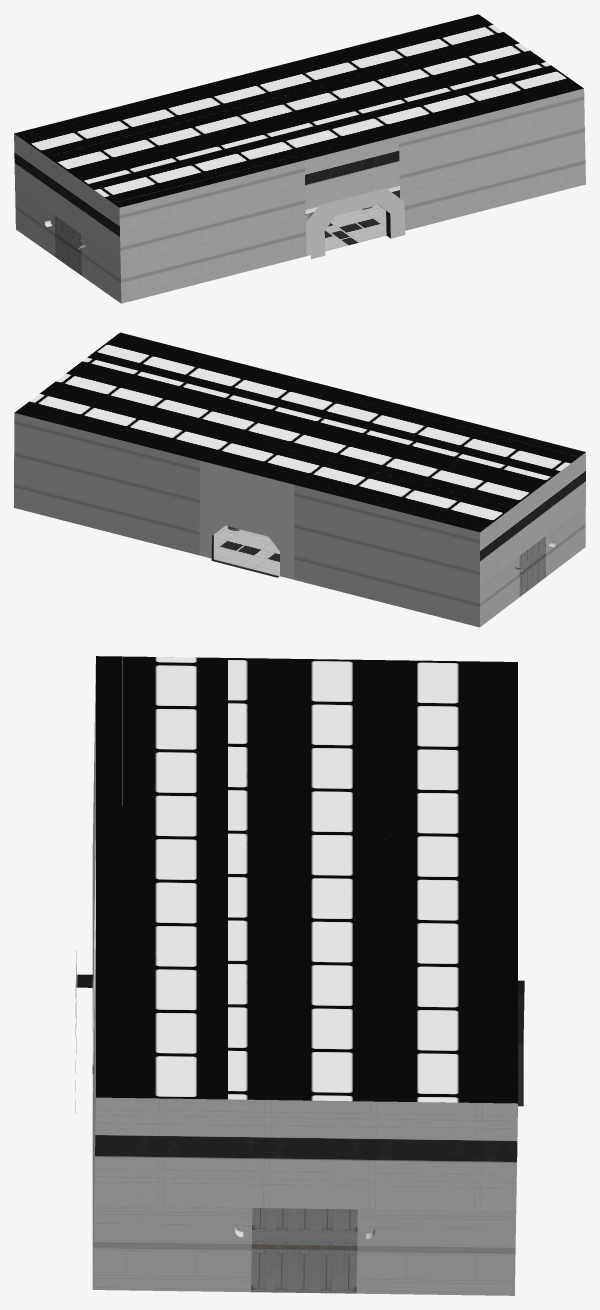
File: barracks.glb
3 views of the same model, one above another, from view 1: azimuth 30°, elevation 25°; view 2: azimuth 150°, elevation 25°; view 3: azimuth 270°, elevation 25° (orthographic). The views are drawn at different scales.
Visible parts, largest first — view 1: Object_16, Object_18, Object_19, Object_4, Object_12, Object_10; view 2: Object_16, Object_18, Object_4, Object_19, Object_12, Object_10; view 3: Object_16, Object_19, Object_18, Object_10, Object_17.
Part boxes in pixels (x1,y1,x2,y2): Object_16: [14, 14, 583, 207]; Object_18: [15, 88, 585, 303]; Object_19: [14, 93, 584, 261]; Object_4: [305, 186, 405, 259]; Object_12: [306, 205, 386, 251]; Object_10: [54, 215, 81, 275]; Object_16: [14, 332, 585, 532]; Object_18: [14, 413, 585, 627]; Object_4: [199, 460, 294, 579]; Object_19: [14, 452, 585, 585]; Object_12: [214, 526, 279, 575]; Object_10: [519, 536, 545, 596]; Object_16: [96, 656, 517, 1103]; Object_19: [94, 656, 517, 1211]; Object_18: [92, 656, 516, 1295]; Object_10: [251, 1208, 357, 1293]; Object_17: [76, 974, 524, 1106].
Size of the model in its own units: 1 by 0.2098 by 0.409.
Materials: 14 (11 with a texture image).
